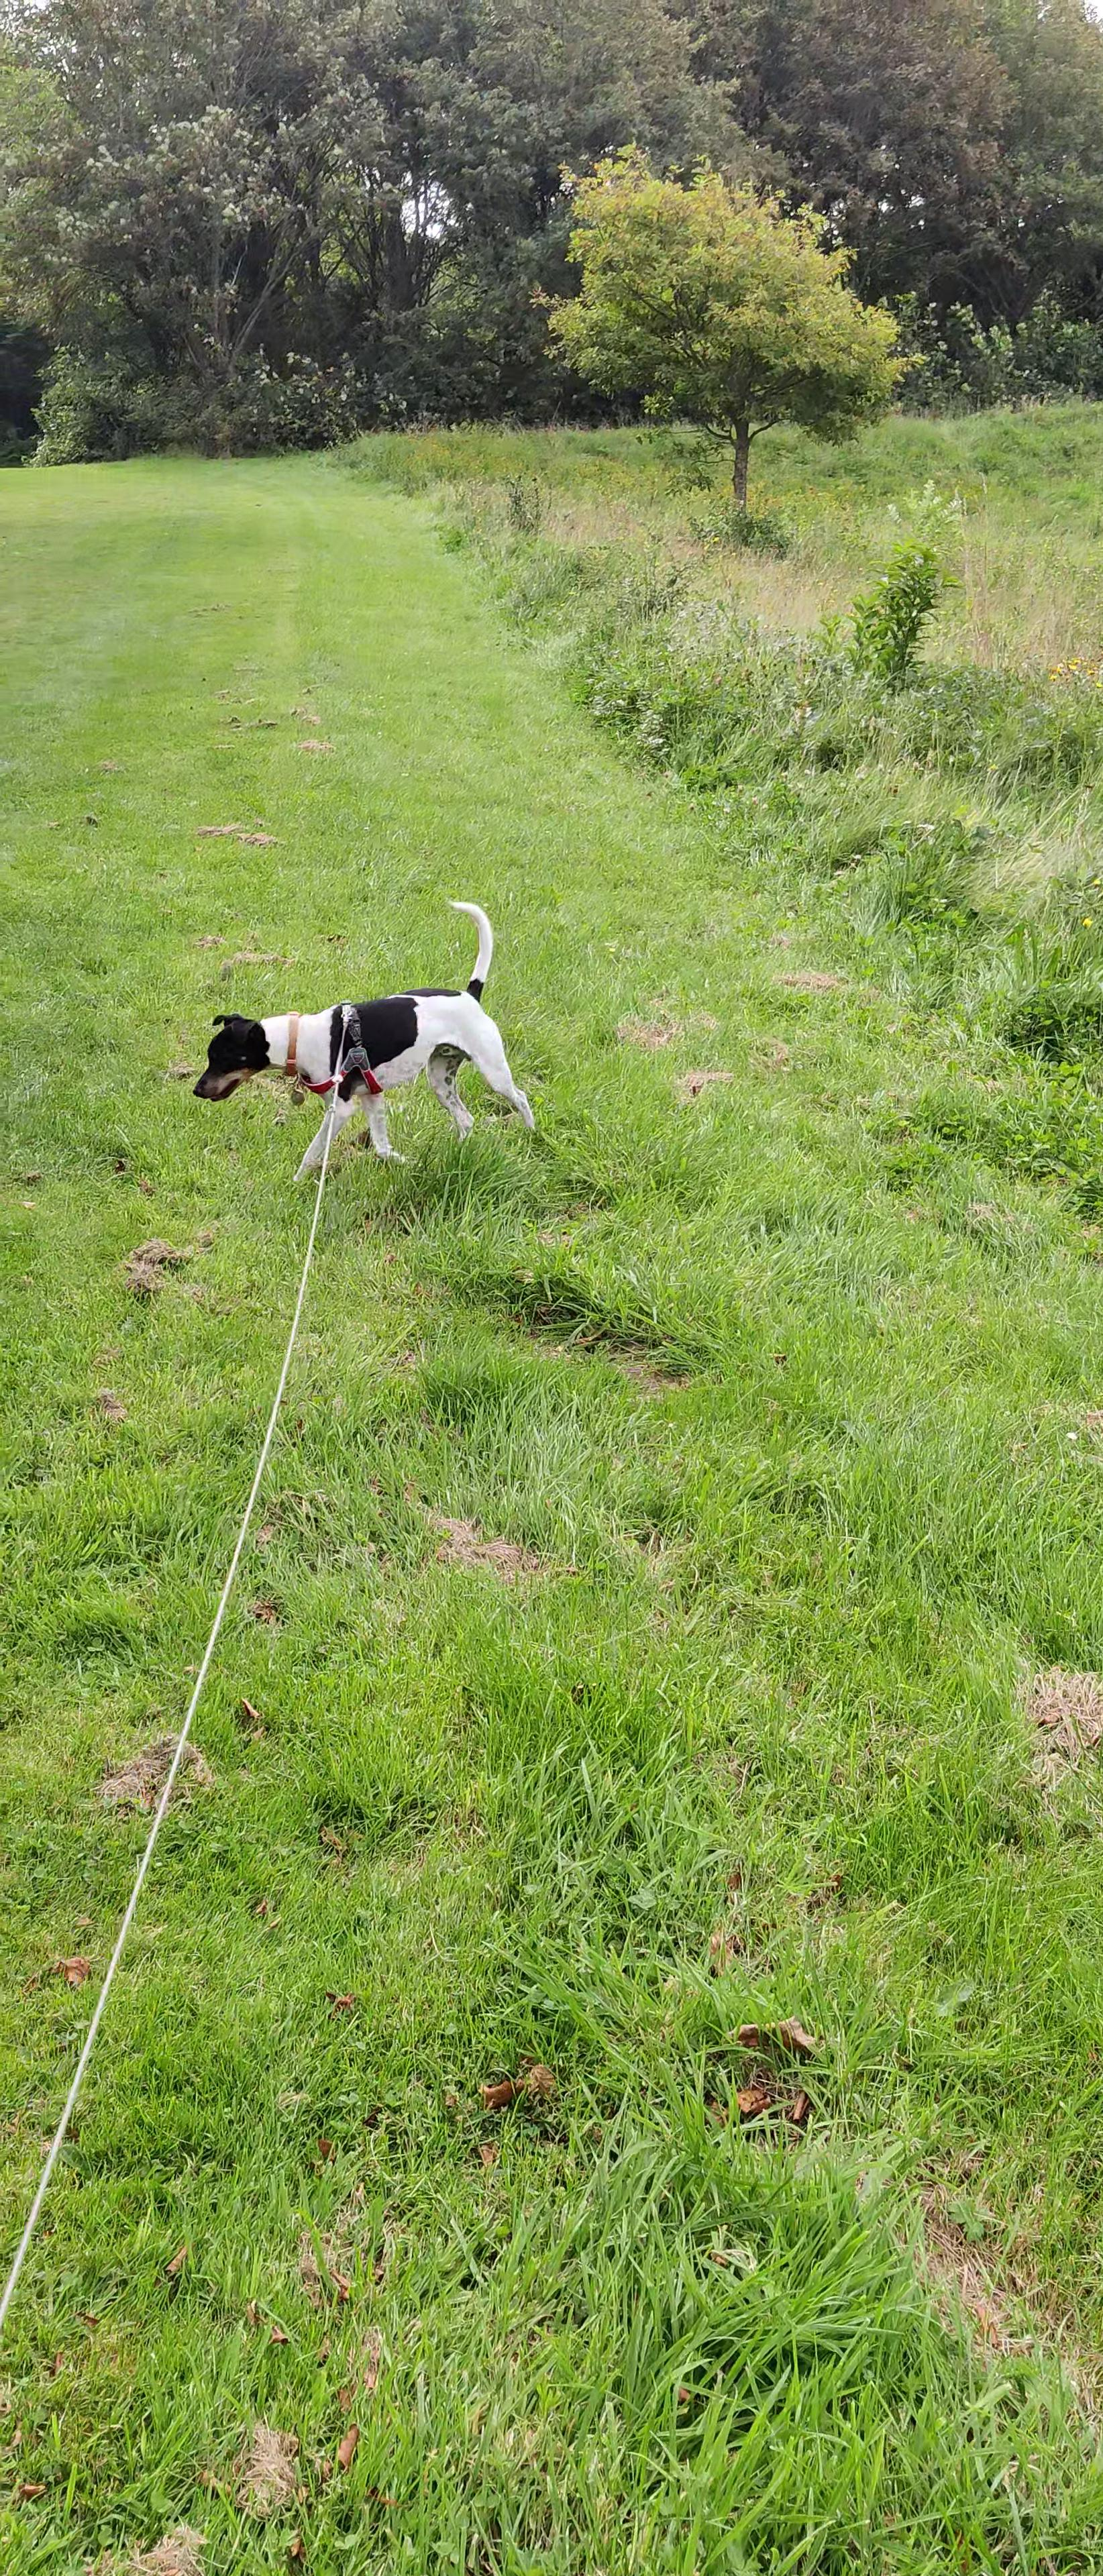Dog: (187, 897, 541, 1184)
